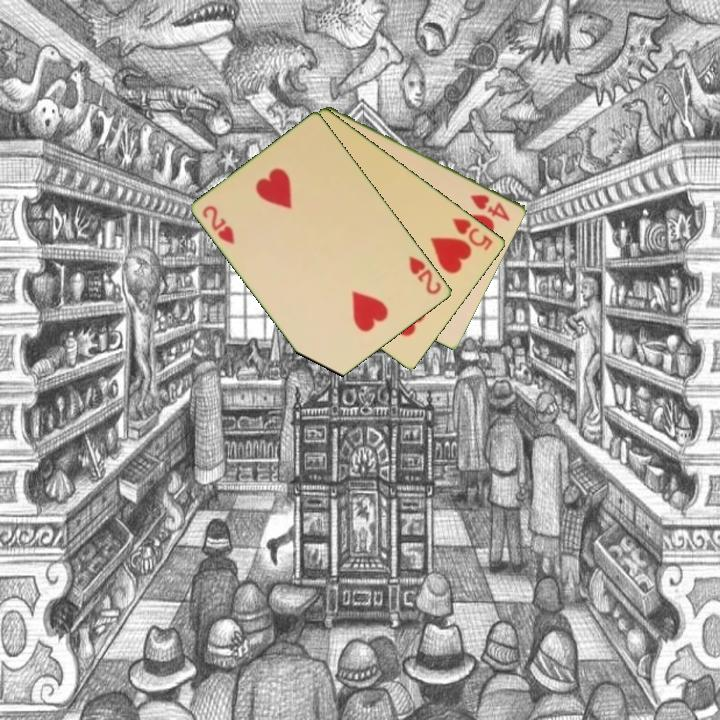2h: (405, 252, 445, 298), (199, 202, 238, 247)
4h: (467, 191, 513, 224)
5h: (449, 214, 496, 253)
